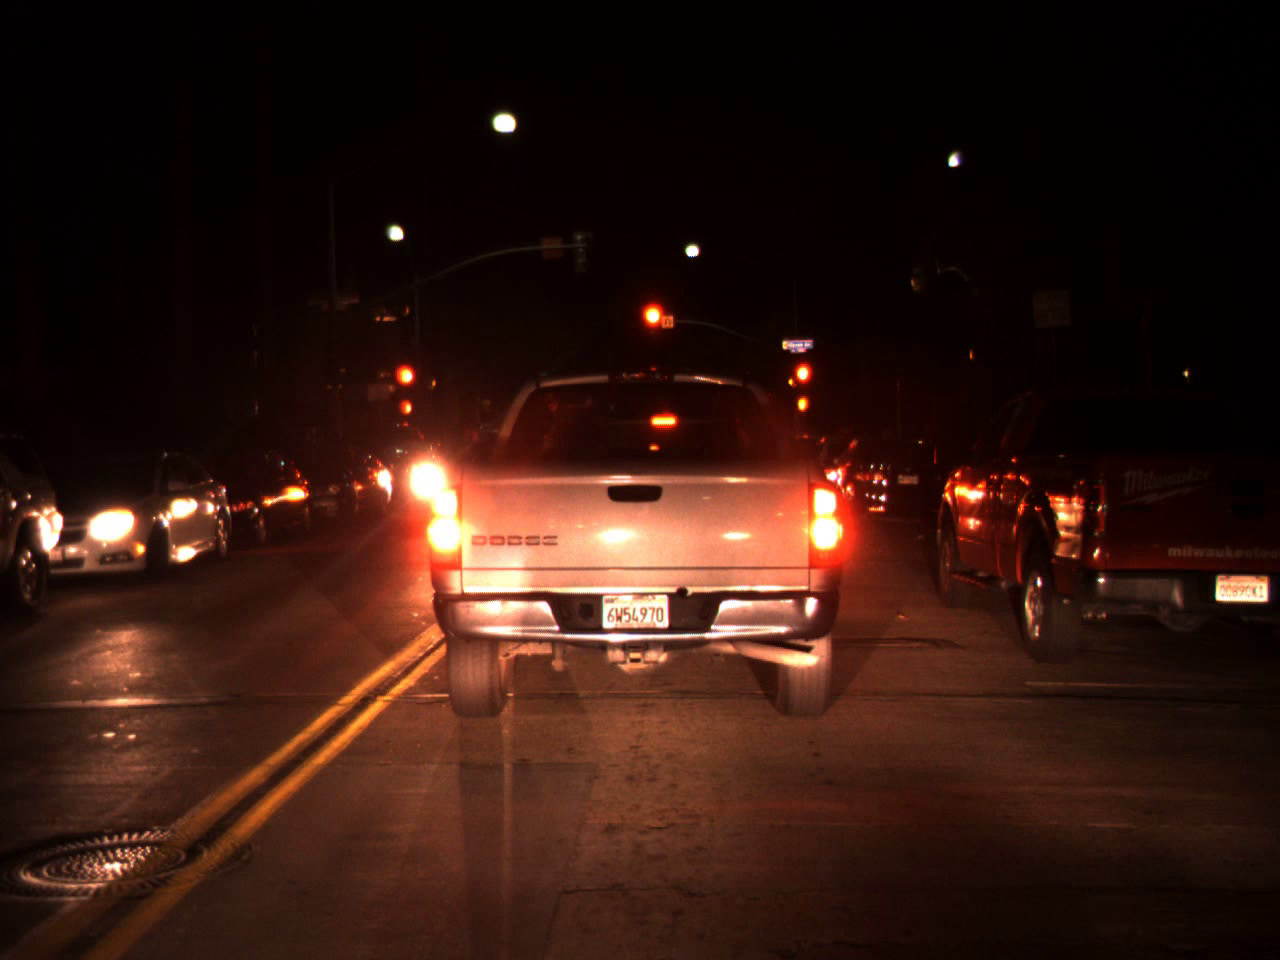stop: (641, 301, 671, 355), (392, 361, 419, 412), (792, 359, 813, 407)
